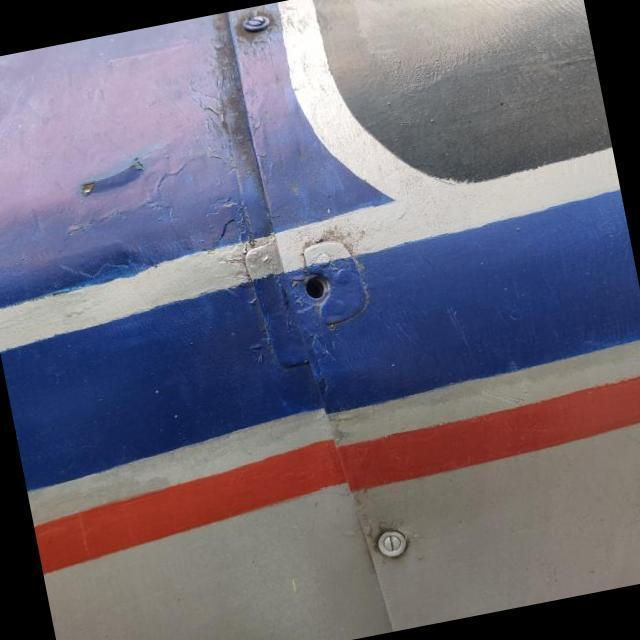Fastener Damage: (270, 234, 380, 344)
